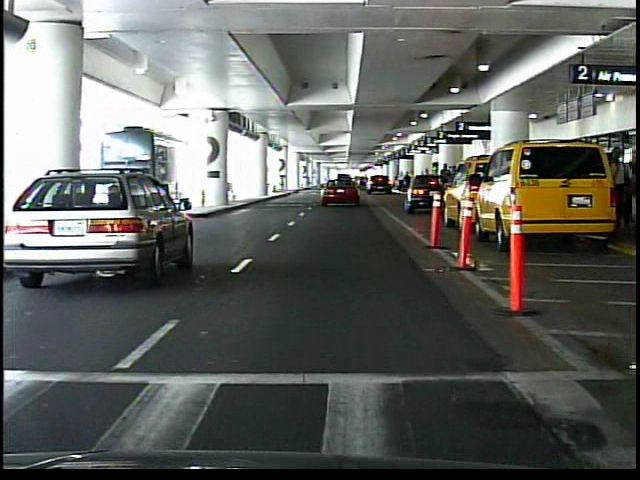person: (438, 161, 455, 210)
